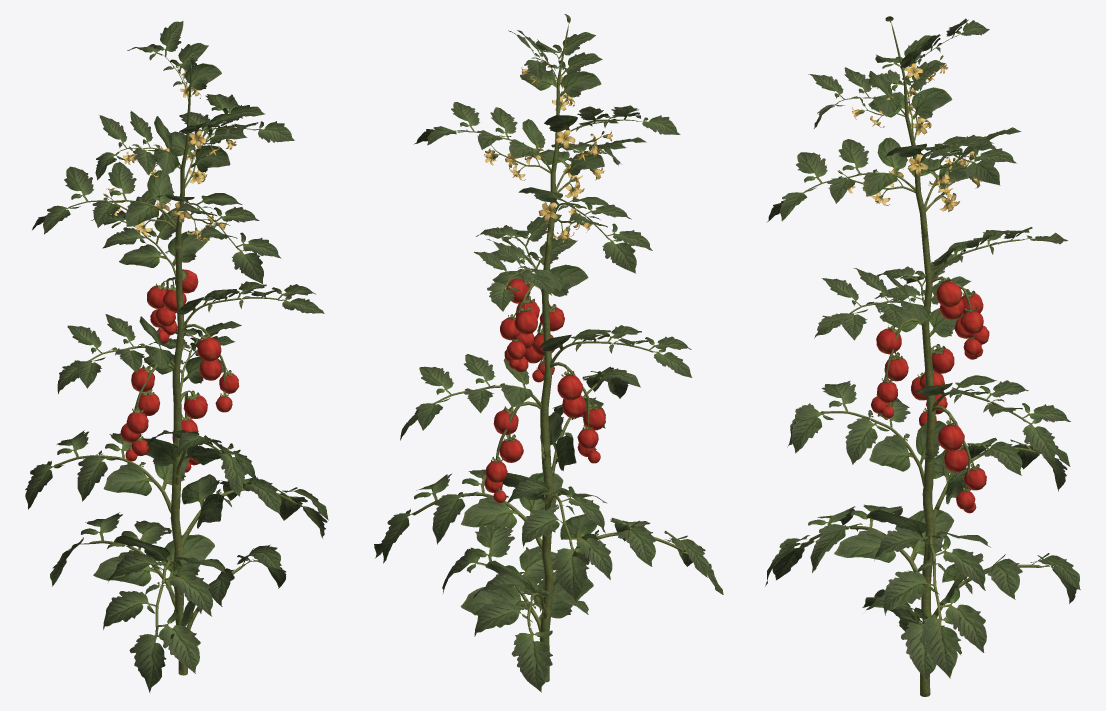
File: tomato8.dae
The picture shows the model from 3 angles, left to right: view 1: azimuth 30°, elevation 25°; view 2: azimuth 150°, elevation 25°; view 3: azimuth 270°, elevation 25°; orthographic projection. The views are drawn at different scales.
Parts seen in each view (by area): view 1: Leaf2, Leaf1, Branch1, Fruit2, Blossom1, Blossom3; view 2: Leaf2, Leaf1, Branch1, Fruit2, Blossom1, Blossom3; view 3: Leaf2, Leaf1, Branch1, Fruit2, Blossom1, Blossom3.
Part boxes in pixels (x1,y1,x2,y2): Leaf2: [25, 21, 328, 692]; Leaf1: [93, 56, 242, 626]; Branch1: [54, 54, 297, 675]; Fruit2: [120, 269, 239, 472]; Blossom1: [103, 69, 236, 241]; Blossom3: [104, 70, 234, 449]; Leaf2: [374, 30, 723, 692]; Leaf1: [460, 14, 618, 624]; Branch1: [413, 24, 684, 682]; Fruit2: [484, 278, 605, 503]; Blossom1: [484, 63, 612, 241]; Blossom3: [490, 70, 607, 491]; Leaf2: [765, 18, 1080, 680]; Leaf1: [834, 16, 996, 654]; Branch1: [805, 22, 1042, 696]; Fruit2: [871, 281, 989, 513]; Blossom1: [837, 55, 981, 211]; Blossom3: [838, 56, 979, 491].
Size of the model in its own units: 0.8346 by 0.778 by 1.77.
